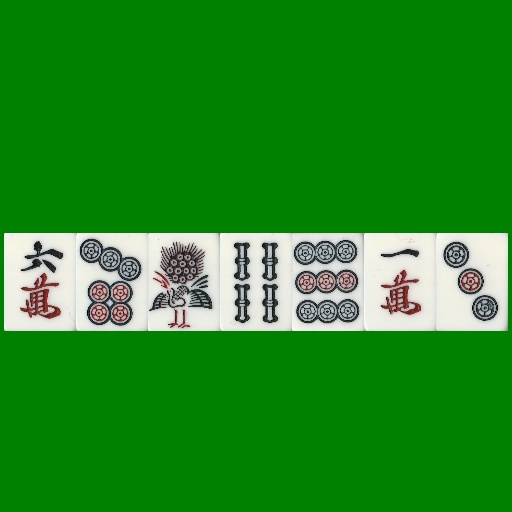1m: (364, 233, 436, 331)
1s: (148, 233, 220, 331)
3p: (436, 233, 508, 331)
4s: (220, 233, 292, 331)
6m: (4, 233, 76, 331)
7p: (76, 233, 148, 331)
9p: (292, 233, 364, 331)
